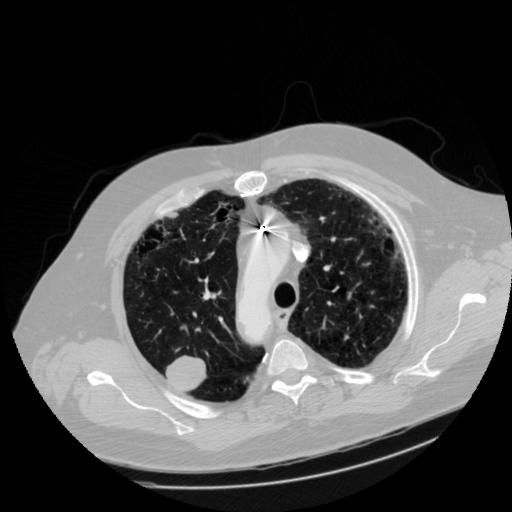nodule: (165, 348, 215, 398)
